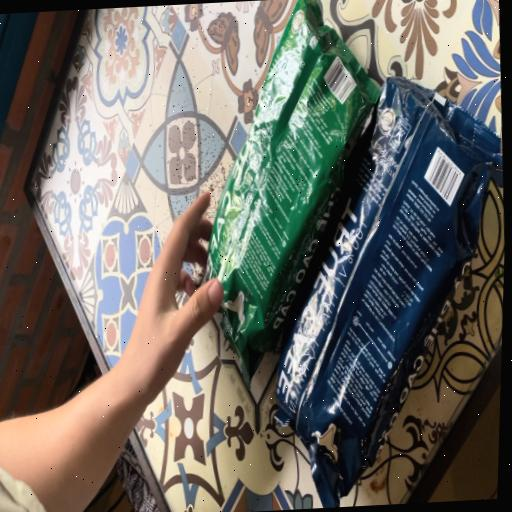cafe_hat: (275, 76, 500, 508)
cafe_xay: (206, 0, 380, 384)
